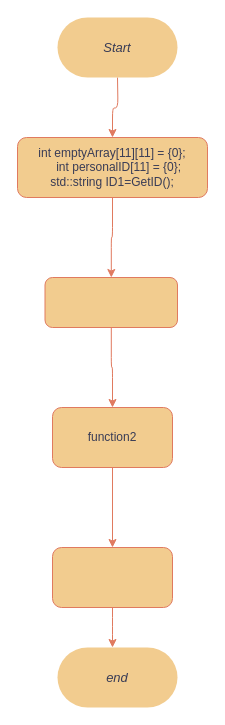
Image size: 225x725. Some labels were removed from this diagram. Each missing label, with the centre of its shape:
"function1" goes at pixel 111 302.
"function3" goes at pixel 112 577.
